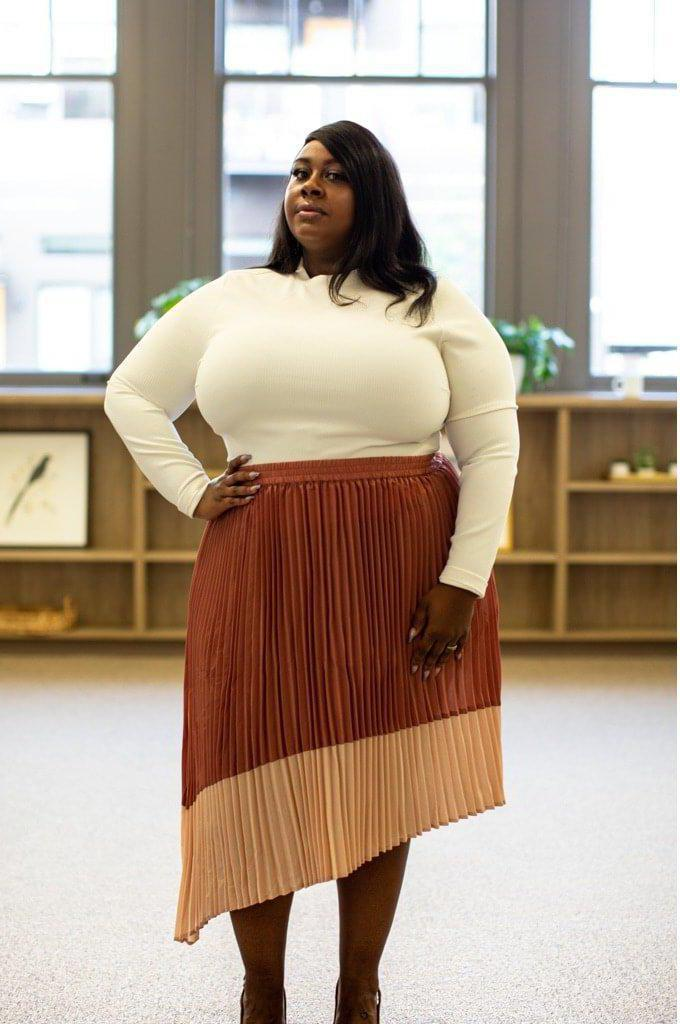Sober: (275, 142, 354, 238)
